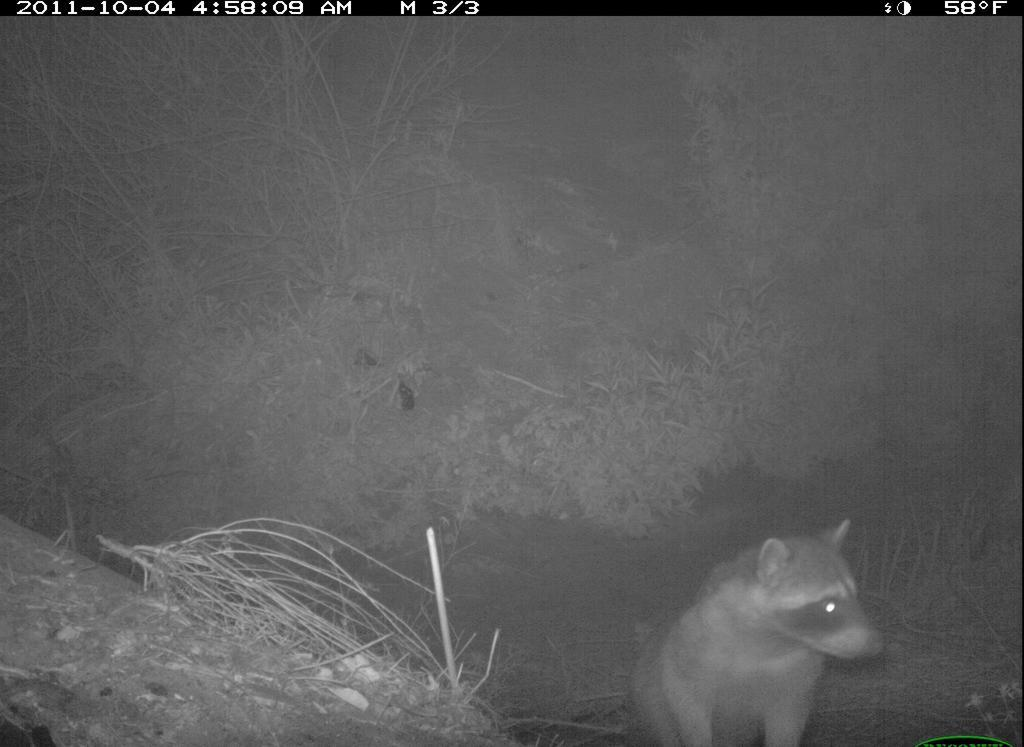raccoon: (600, 489, 895, 739)
